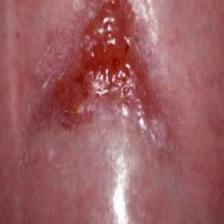wound-ulser: (40, 0, 173, 155)
